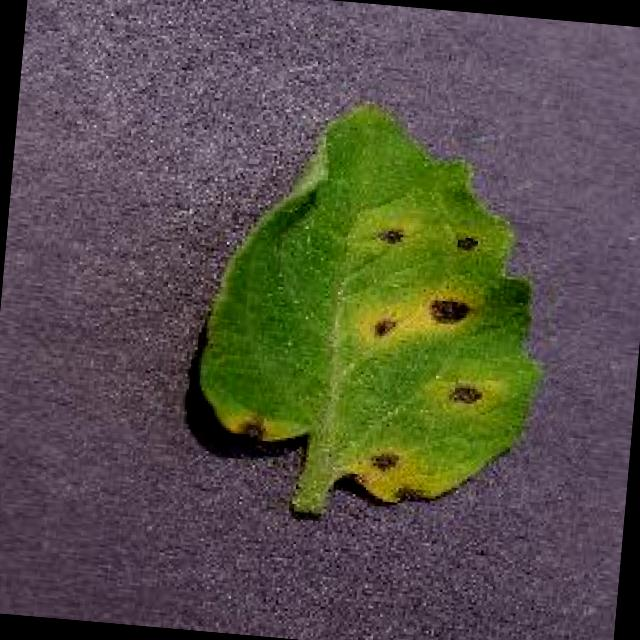leaf_blight: (201, 105, 539, 512)
